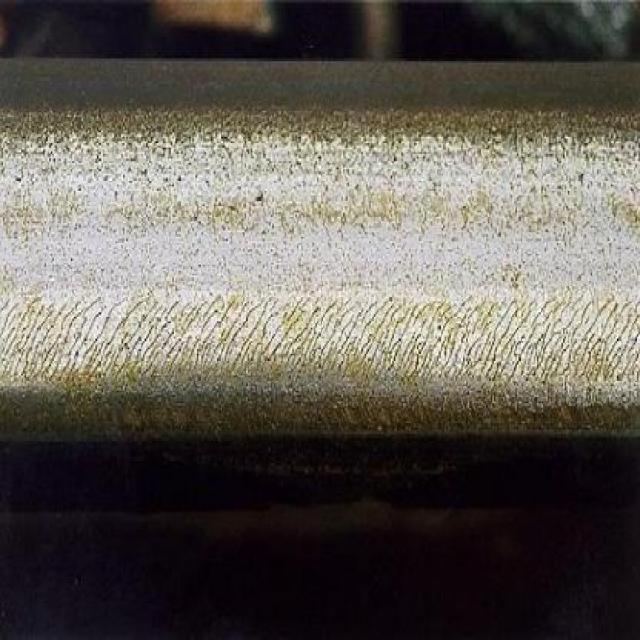defective: (0, 23, 640, 552)
